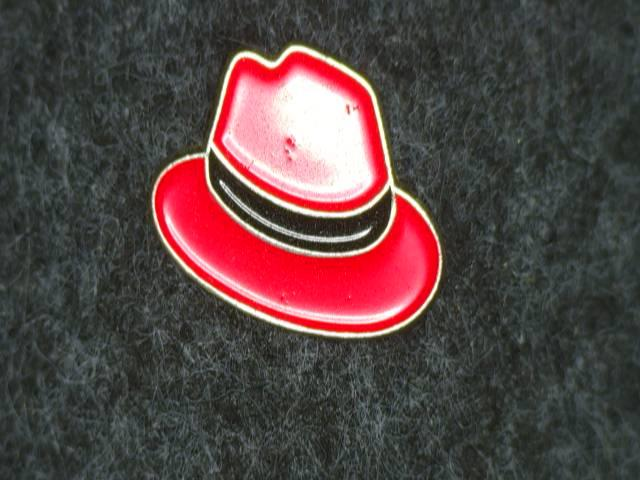Red-Hat: (134, 24, 485, 367)
